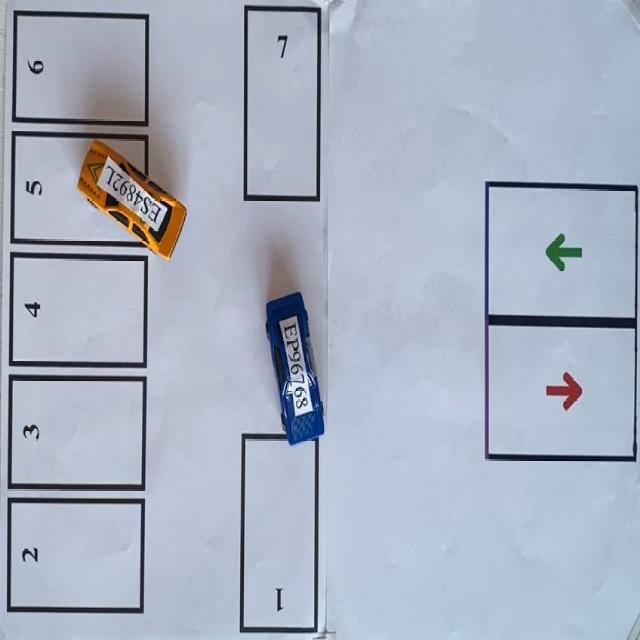car: (78, 139, 186, 259), (266, 292, 324, 444)
